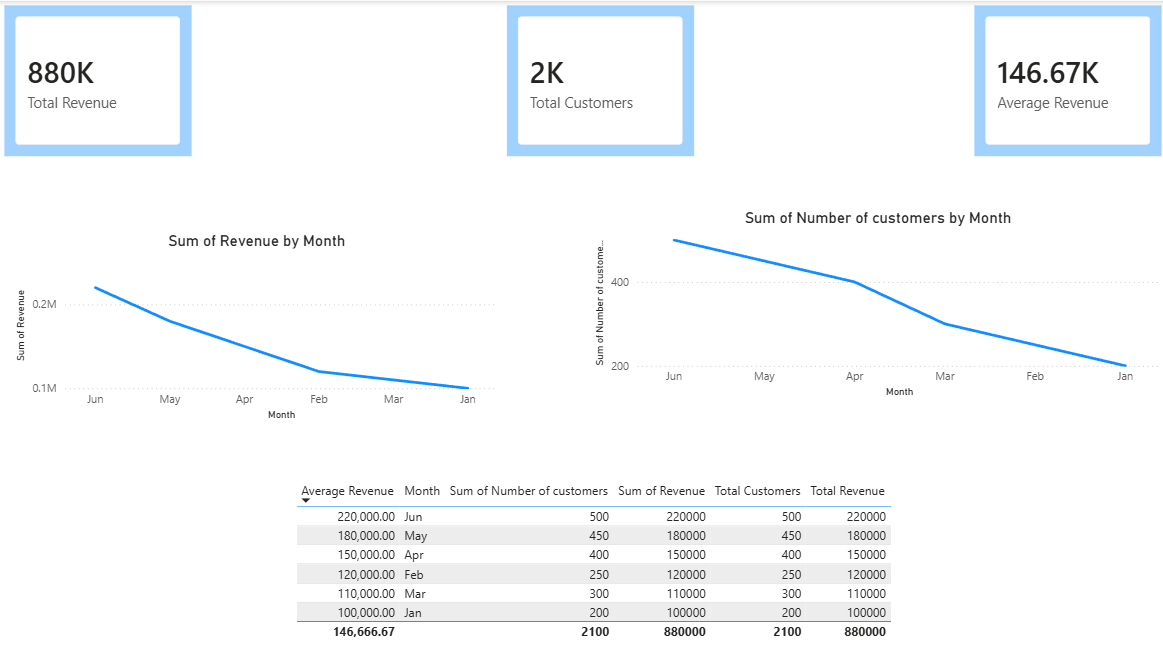

The dashboard page shown, as its layout file describes it:
{"tool":"powerbi","page":{"name":"Page 1","canvas":[1280,720],"ordinal":0},"visuals":[{"type":"cardVisual","fields":{"Data":["Sheet1.Total Revenue"]},"box":[0,0,215.4,175.6],"z":0},{"type":"cardVisual","fields":{"Data":["Sheet1.Total Customers"]},"box":[551.6,0,215.4,175.6],"z":1},{"type":"cardVisual","fields":{"Data":["Sheet1.Average Revenue"]},"box":[1064.8,0,215.4,175.6],"z":2},{"type":"lineChart","fields":{"Category":["Sheet1.Month"],"Y":["Sum(Sheet1.Revenue)"]},"box":[12.3,252.5,539.3,212.7],"z":3},{"type":"lineChart","fields":{"Category":["Sheet1.Month"],"Y":["Sum(Sheet1.Number of customers)"]},"box":[647.7,227.8,632.6,212.7],"z":4},{"type":"tableEx","fields":{"Values":["Sheet1.Average Revenue","Sheet1.Month","Sum(Sheet1.Number of customers)","Sum(Sheet1.Revenue)","Sheet1.Total Customers","Sheet1.Total Revenue"]},"box":[319.7,521.4,682,199],"z":5}]}

Visuals, with their boxes in screenshot pixels (x1, y1, x2, y2), scaled from the page's 1280x720 canvas onto the 1163x656 screenshot:
cardVisual - Sheet1.Total Revenue: [x1=0, y1=0, x2=196, y2=160]
cardVisual - Sheet1.Total Customers: [x1=501, y1=0, x2=697, y2=160]
cardVisual - Sheet1.Average Revenue: [x1=967, y1=0, x2=1162, y2=160]
lineChart - Sheet1.Month x Sum(Sheet1.Revenue): [x1=11, y1=230, x2=501, y2=424]
lineChart - Sheet1.Month x Sum(Sheet1.Number of customers): [x1=588, y1=208, x2=1162, y2=401]
tableEx - Sheet1.Average Revenue x Sheet1.Month: [x1=290, y1=475, x2=910, y2=655]
